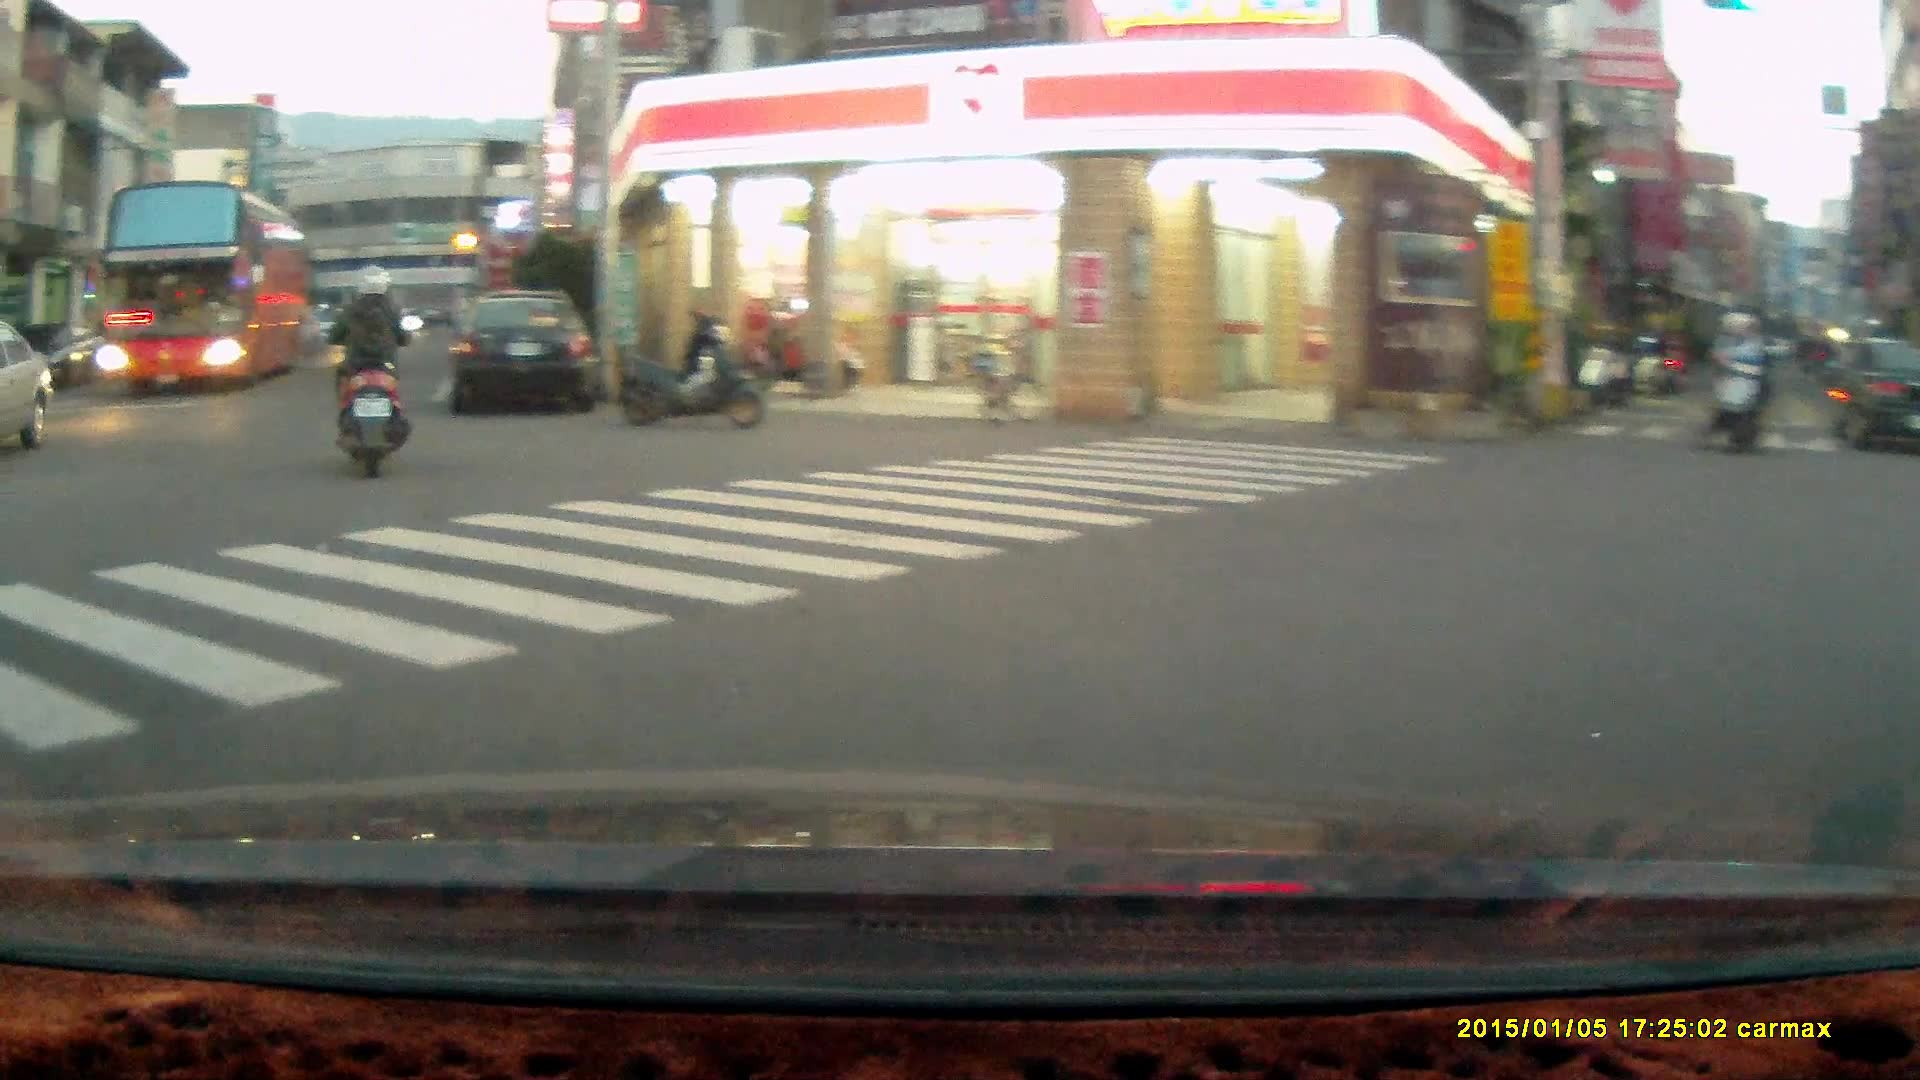rider: (325, 262, 421, 479), (1700, 307, 1771, 457)
vehicle: (99, 178, 313, 391), (446, 290, 602, 412), (1845, 334, 1920, 456)
